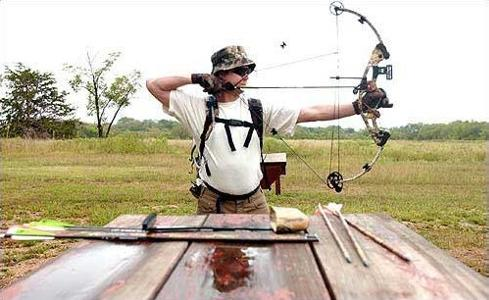person: (148, 43, 384, 217)
